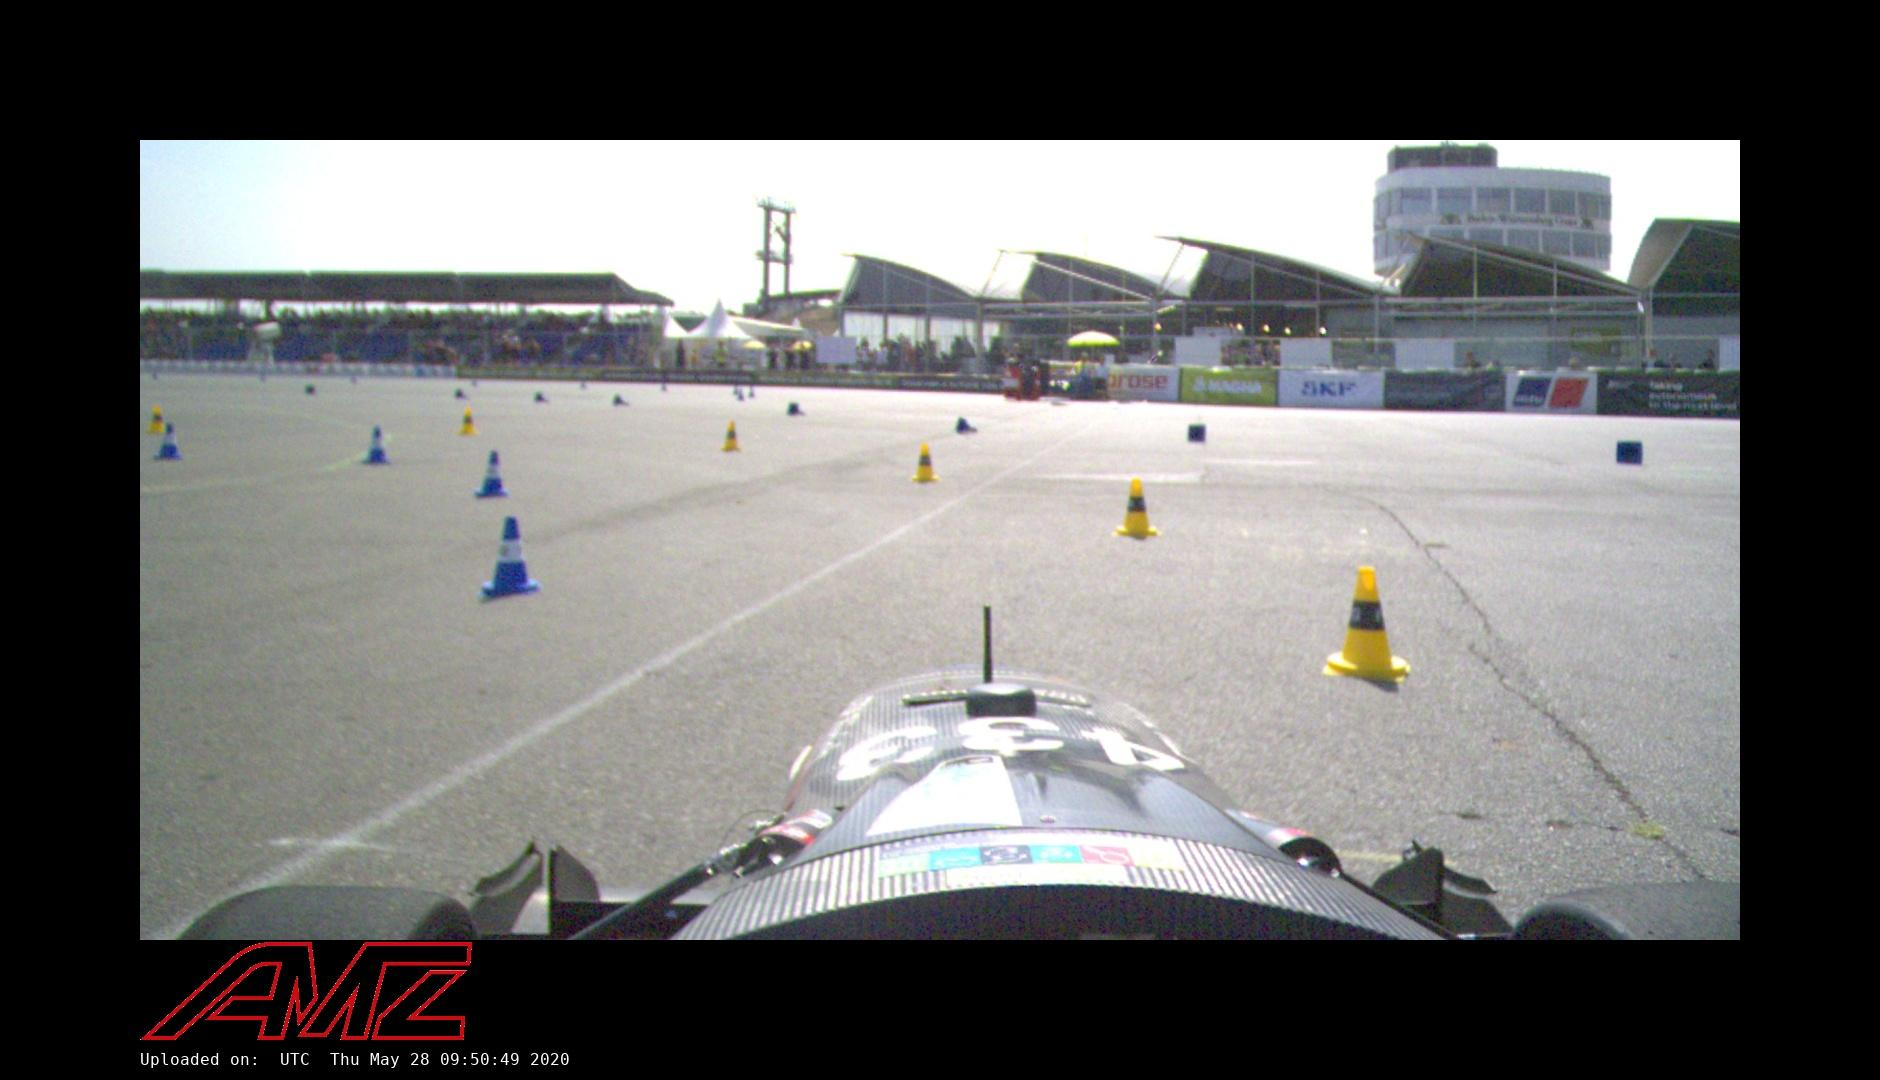blue_cone: (476, 515, 543, 600), (473, 450, 510, 497), (360, 424, 392, 466), (155, 419, 185, 462), (955, 416, 978, 433), (611, 393, 632, 408), (786, 402, 805, 417), (533, 390, 552, 403), (454, 388, 470, 399)
yellow_cone: (1323, 564, 1410, 682), (1113, 477, 1158, 537), (911, 443, 940, 483), (145, 403, 168, 435), (719, 420, 742, 452), (456, 406, 479, 436)
